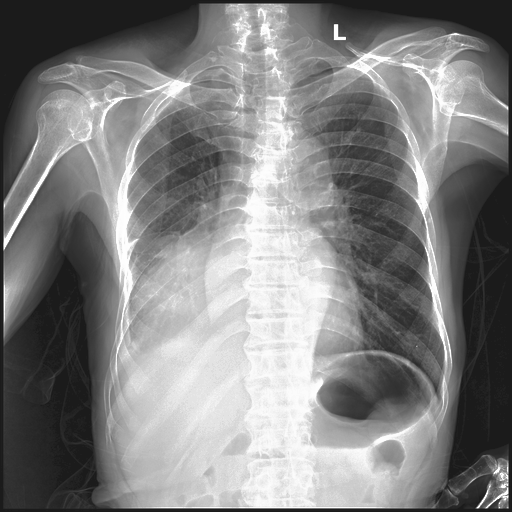Aortic enlargement: (113, 227, 234, 367)
Calcification: (154, 65, 229, 119), (118, 264, 132, 343)
Consolidation: (265, 133, 334, 201)
ILD: (125, 230, 181, 284)
Pleural effusion: (113, 328, 233, 373)
Pleural thickening: (114, 211, 239, 347)
Pneumothorax: (126, 233, 177, 273), (168, 102, 208, 119)
